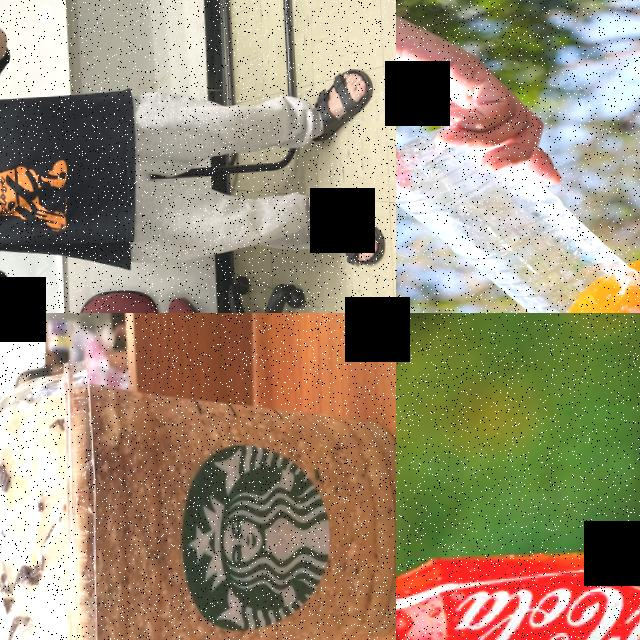bottle: (396, 112, 640, 313)
can: (396, 539, 640, 640)
cup: (0, 343, 396, 640)
